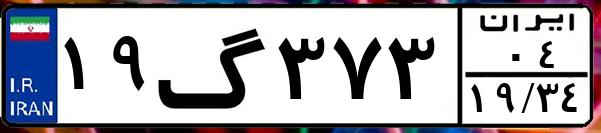0: (508, 27, 537, 80)
1: (57, 26, 110, 100), (470, 70, 495, 125)
3: (270, 28, 330, 110), (385, 28, 445, 110), (535, 70, 560, 125)
4: (560, 70, 590, 125), (537, 27, 568, 80)
7: (330, 28, 385, 110)
9: (110, 28, 156, 98), (495, 70, 520, 125)
گ: (156, 12, 270, 120)
